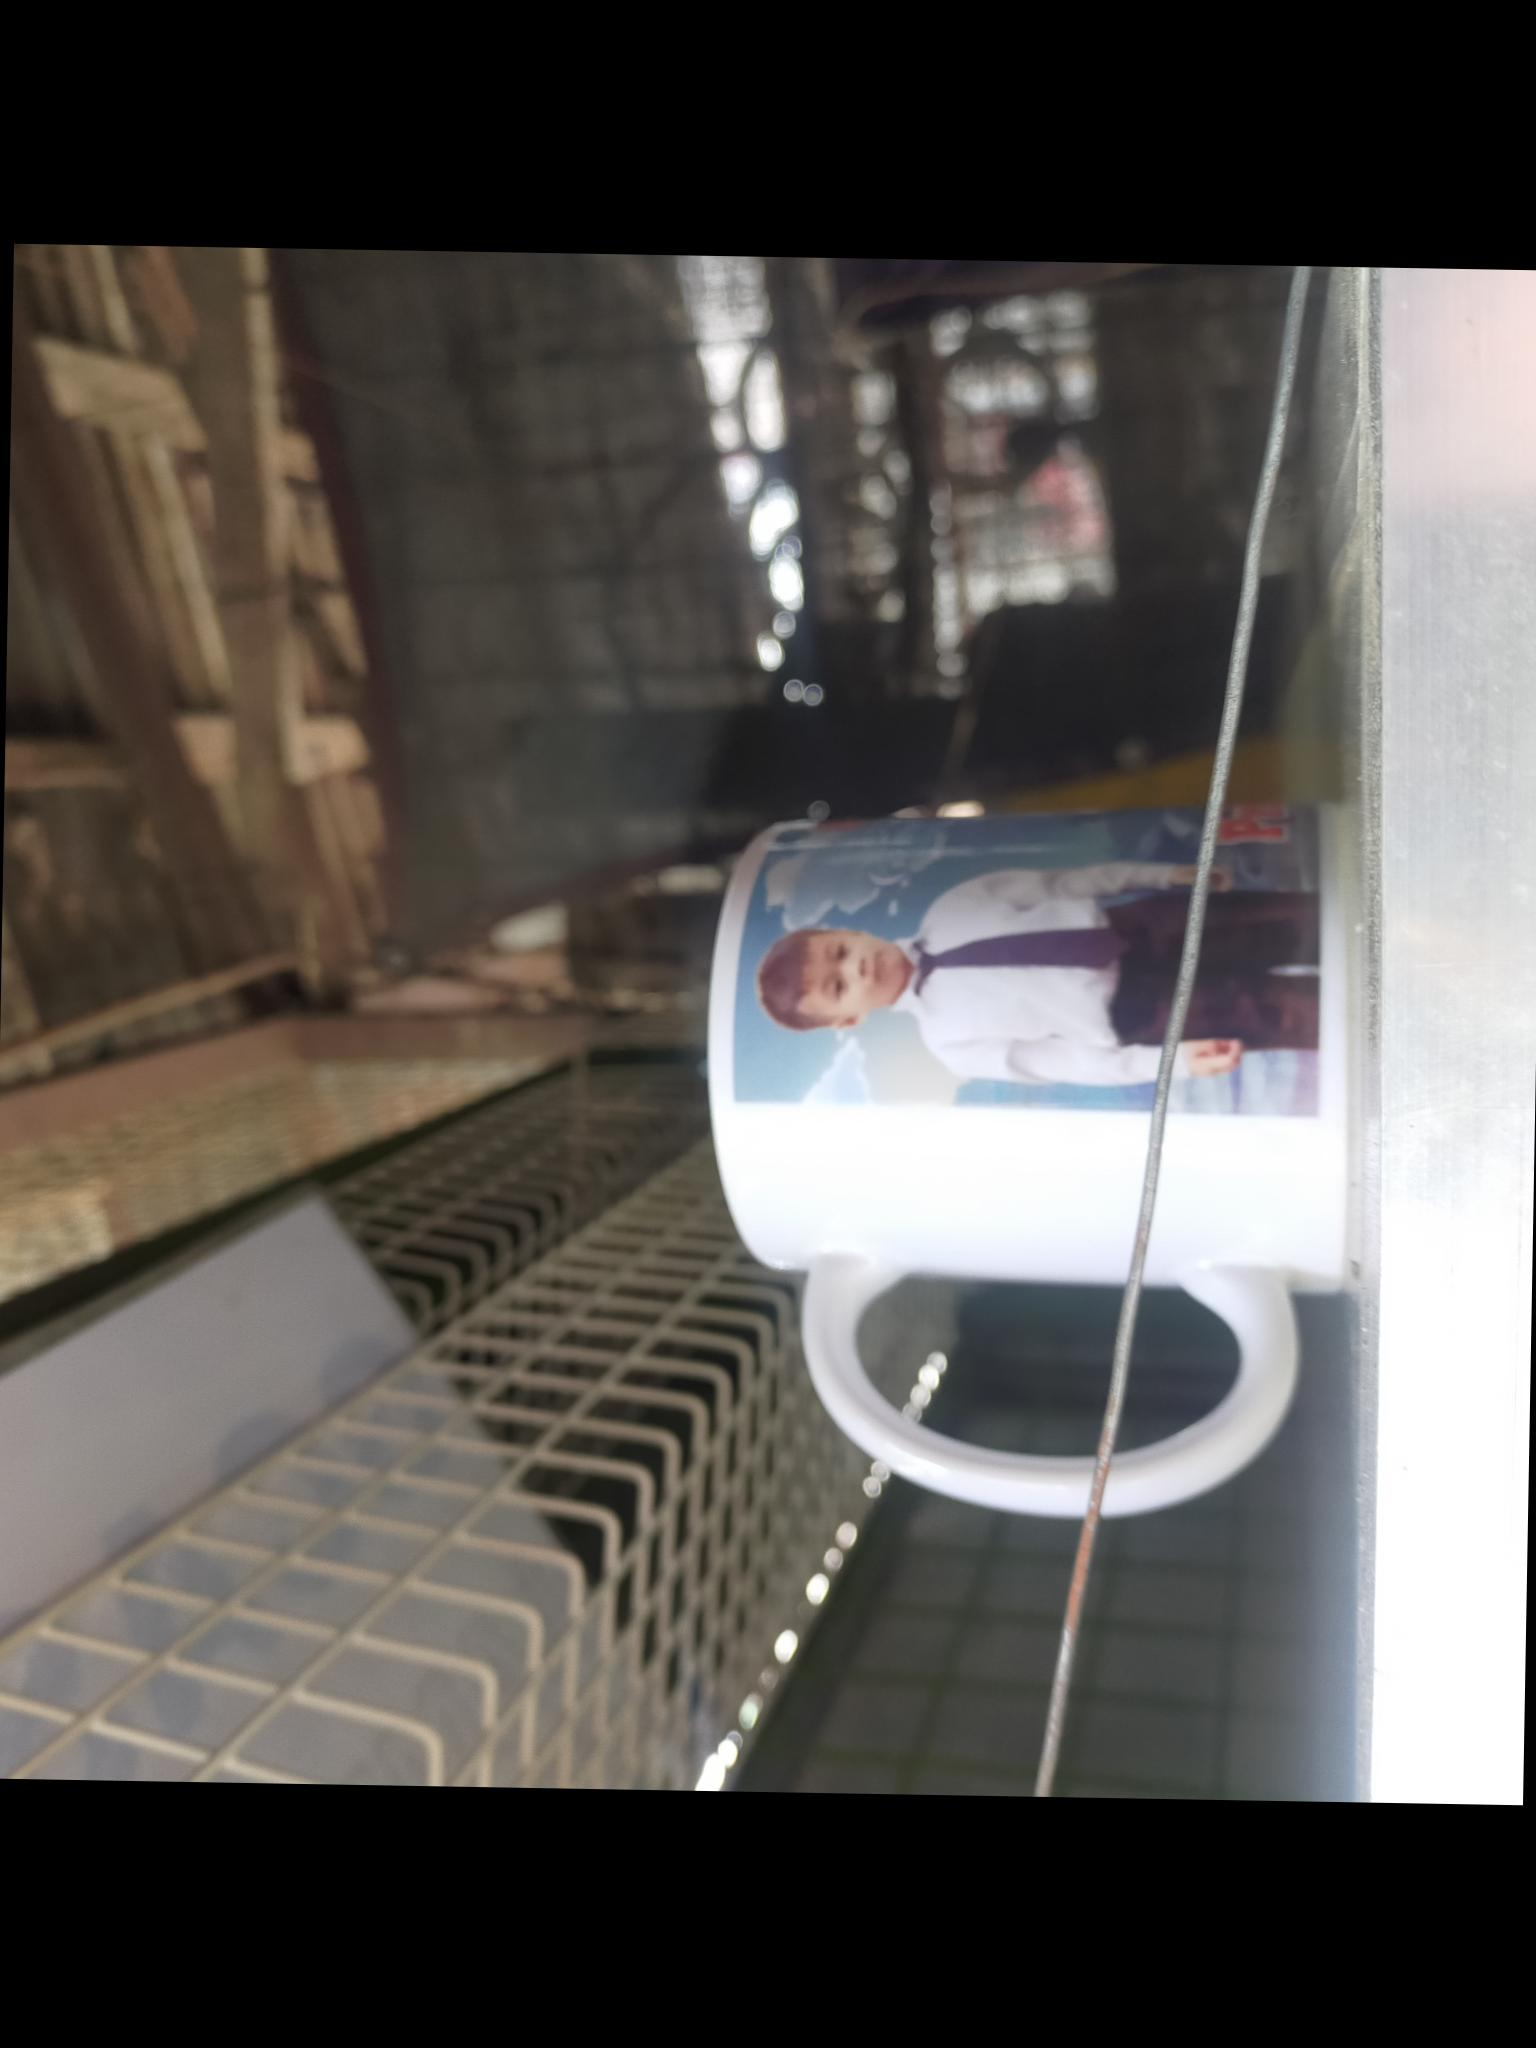Coffee Mug: (699, 793, 1360, 1517)
